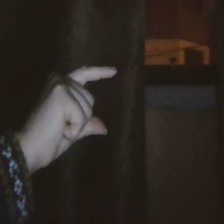G: (23, 60, 128, 170)
